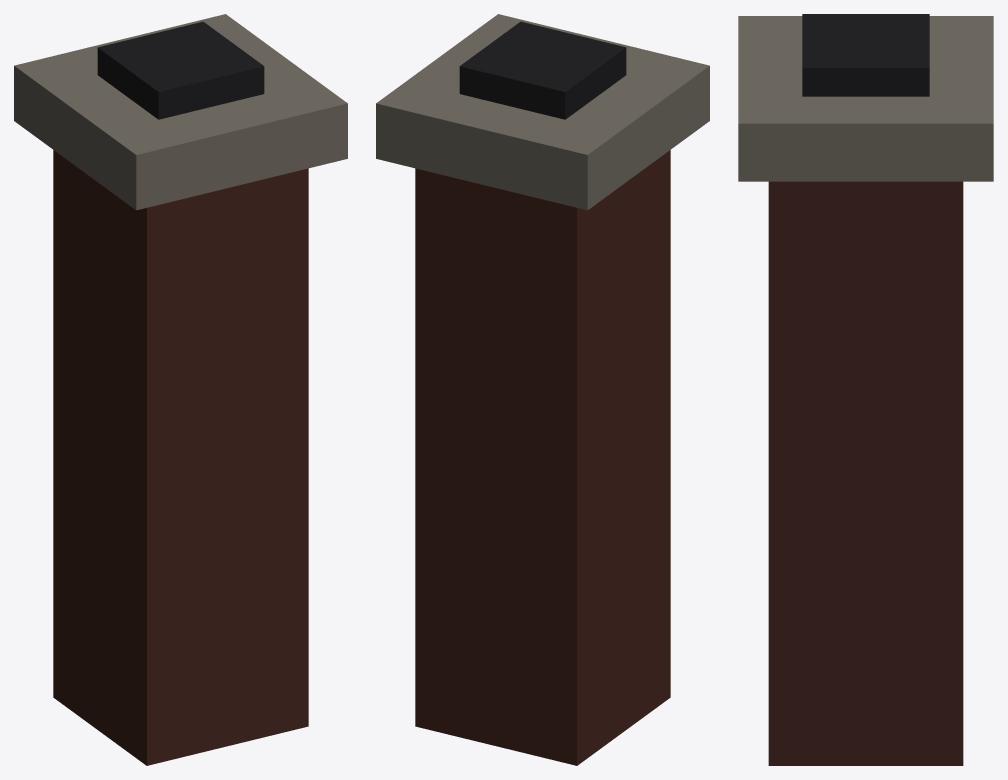
Rendered from GalakasMidCity_ORG_Chimney_RoundedPipeCluster_01.obj.
3 views of the same model, side by side, from view 1: azimuth 30°, elevation 25°; view 2: azimuth 150°, elevation 25°; view 3: azimuth 270°, elevation 25° (orthographic). The views are drawn at different scales.
Visible parts, largest first — view 1: piece_chimney_brick_stack, piece_chimney_cap, piece_chimney_flue; view 2: piece_chimney_brick_stack, piece_chimney_cap, piece_chimney_flue; view 3: piece_chimney_brick_stack, piece_chimney_cap, piece_chimney_flue.
Part boxes in pixels (bbox=[...]): piece_chimney_brick_stack: bbox=[53, 150, 308, 765]; piece_chimney_cap: bbox=[14, 14, 347, 210]; piece_chimney_flue: bbox=[97, 21, 264, 119]; piece_chimney_brick_stack: bbox=[415, 150, 670, 765]; piece_chimney_cap: bbox=[376, 14, 709, 210]; piece_chimney_flue: bbox=[459, 21, 626, 119]; piece_chimney_brick_stack: bbox=[768, 181, 963, 765]; piece_chimney_cap: bbox=[738, 16, 993, 181]; piece_chimney_flue: bbox=[802, 14, 929, 96].
Size of the model in its own units: 0.72 by 2.13 by 0.72.
